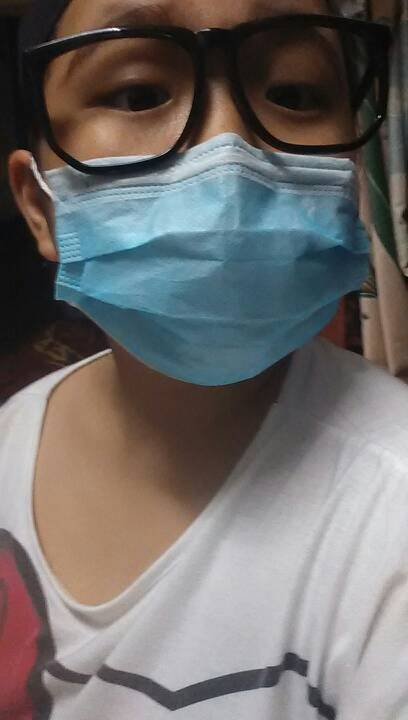mask: (25, 112, 376, 372)
